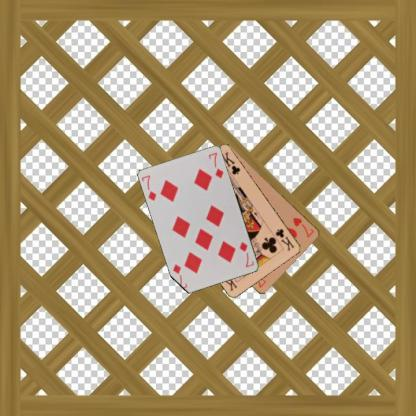7d: (139, 173, 158, 202), (237, 239, 255, 269)
7h: (290, 215, 315, 239)
Kc: (273, 226, 296, 252)
